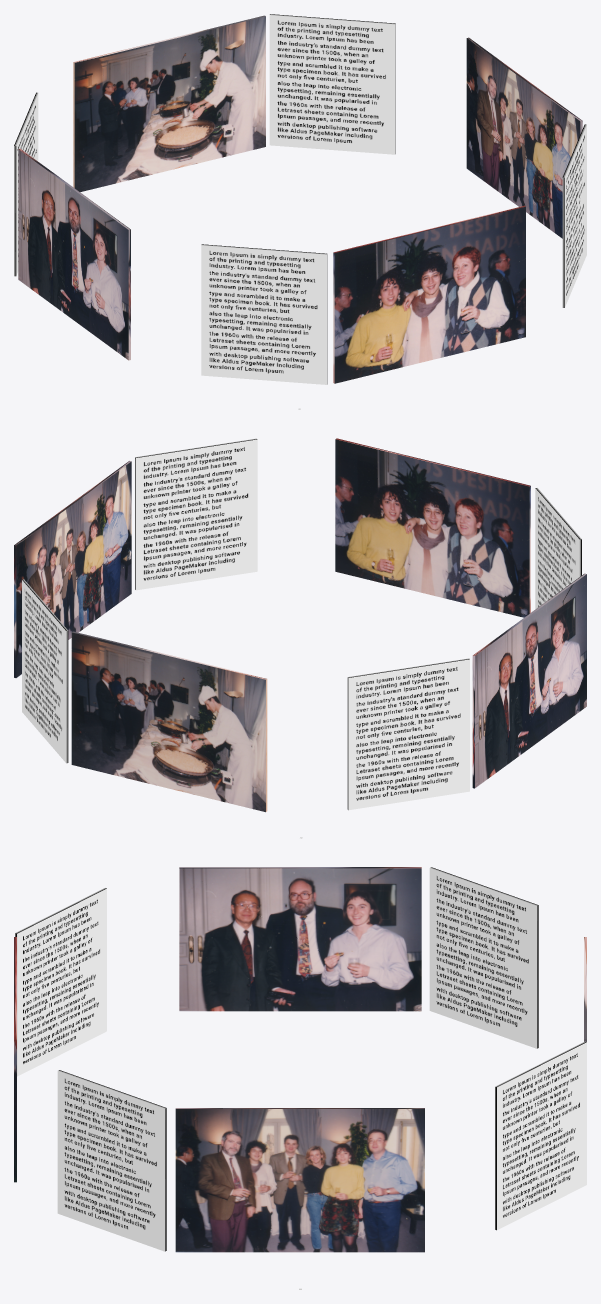
Rendered from bundle002.glb.
3 views of the same model, one above another, from view 1: azimuth 30°, elevation 25°; view 2: azimuth 150°, elevation 25°; view 3: azimuth 270°, elevation 25° (orthographic). The views are drawn at different scales.
Visible parts, largest first — view 1: Board 004, Board 002, Board 001.003, Board 001.004, Board 003, Board 001, Board 001.001, Board 001.002; view 2: Board 002, Board 004, Board 001.002, Board 001.001, Board 003, Board 001, Board 001.003, Board 001.004; view 3: Board 001, Board 003, Board 001.002, Board 001.001, Board 001.003, Board 001.004, Board 004.
Boxes of the visible parts, bbox=[...] form: Board 004: bbox=[333, 205, 525, 383]; Board 002: bbox=[73, 15, 265, 192]; Board 001.003: bbox=[269, 14, 395, 154]; Board 001.004: bbox=[201, 244, 327, 384]; Board 003: bbox=[18, 148, 130, 360]; Board 001: bbox=[466, 37, 582, 238]; Board 001.001: bbox=[562, 124, 586, 307]; Board 001.002: bbox=[14, 92, 38, 276]; Board 002: bbox=[71, 631, 267, 812]; Board 004: bbox=[335, 438, 530, 617]; Board 001.002: bbox=[347, 658, 469, 810]; Board 001.001: bbox=[135, 438, 257, 590]; Board 003: bbox=[472, 573, 586, 788]; Board 001: bbox=[14, 461, 131, 677]; Board 001.003: bbox=[22, 579, 68, 763]; Board 001.004: bbox=[535, 488, 581, 609]; Board 001: bbox=[175, 1108, 424, 1252]; Board 003: bbox=[179, 867, 421, 1011]; Board 001.002: bbox=[429, 867, 538, 1048]; Board 001.001: bbox=[57, 1070, 166, 1251]; Board 001.003: bbox=[495, 1041, 586, 1230]; Board 001.004: bbox=[15, 888, 106, 1076]; Board 004: bbox=[14, 937, 16, 1182].
Size of the model in its own units: 6.69 by 3.88 by 6.69.
8 materials, 8 textured.
